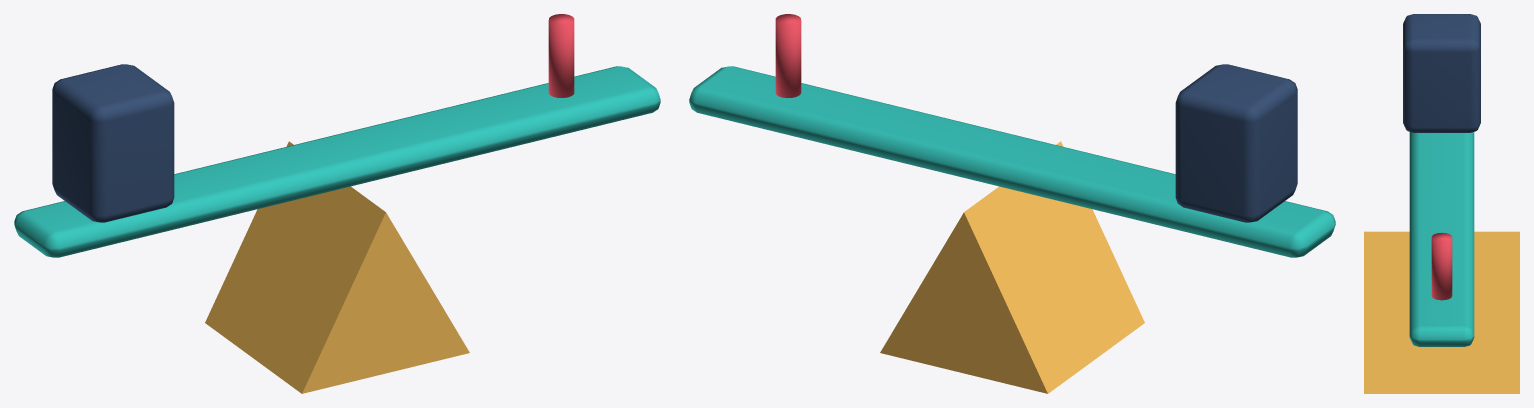
The model's file is lever-lite.glb.
The picture shows the model from 3 angles, left to right: view 1: azimuth 30°, elevation 25°; view 2: azimuth 150°, elevation 25°; view 3: azimuth 270°, elevation 25°; orthographic projection. The views are drawn at different scales.
Parts seen in each view (by area): view 1: Fulcrum; view 2: Fulcrum; view 3: Fulcrum.
Part boxes in pixels (x1,y1,x2,y2): Fulcrum: [14, 14, 660, 393]; Fulcrum: [689, 14, 1335, 393]; Fulcrum: [1364, 14, 1519, 393].
Size of the model in its own units: 2.2 by 1.05 by 0.6.
